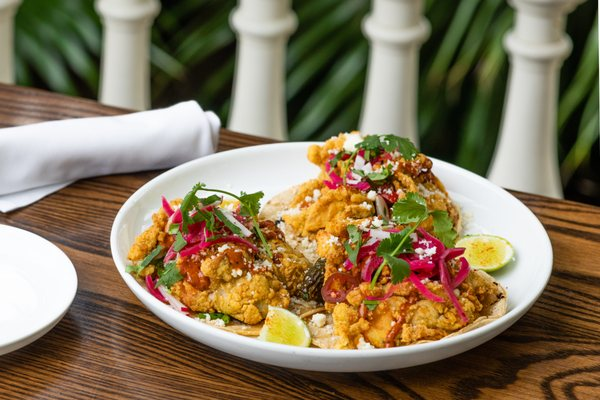sushi: (110, 136, 560, 377)
